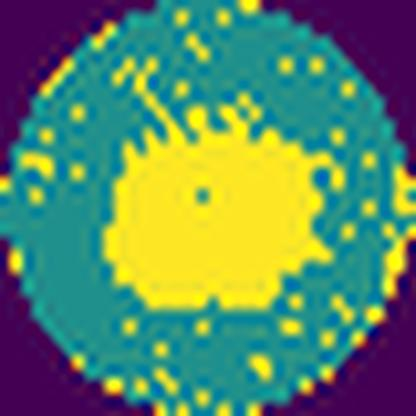Center: (97, 106, 344, 309)
